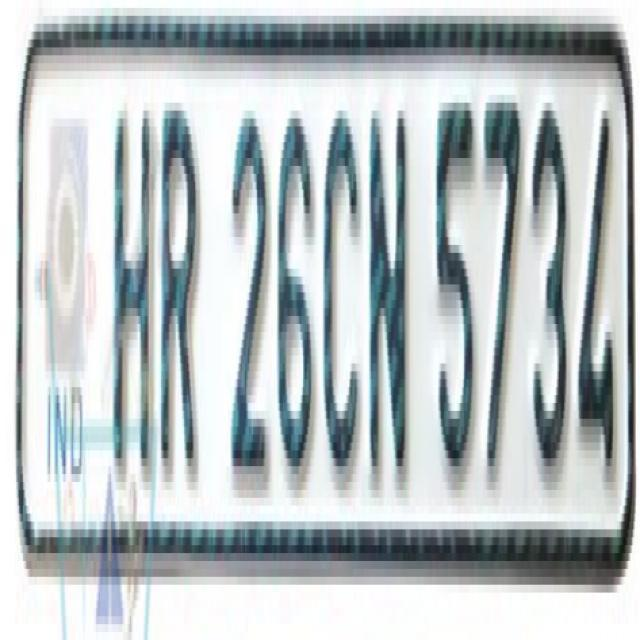3: (526, 94, 573, 502)
4: (576, 80, 618, 498)
5: (430, 87, 478, 493)
6: (274, 80, 314, 487)
7: (483, 83, 519, 504)
C: (320, 80, 360, 483)
H: (108, 83, 154, 480)
N: (364, 80, 412, 498)
R: (158, 88, 199, 486)
